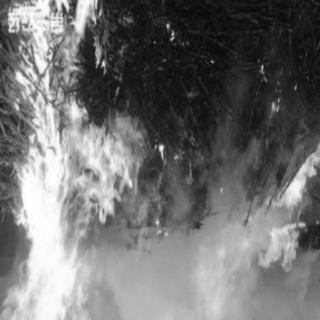Fire: (4, 6, 186, 316)
